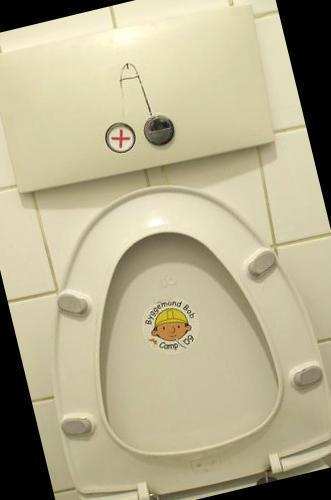Sanitario: (8, 163, 331, 500)
